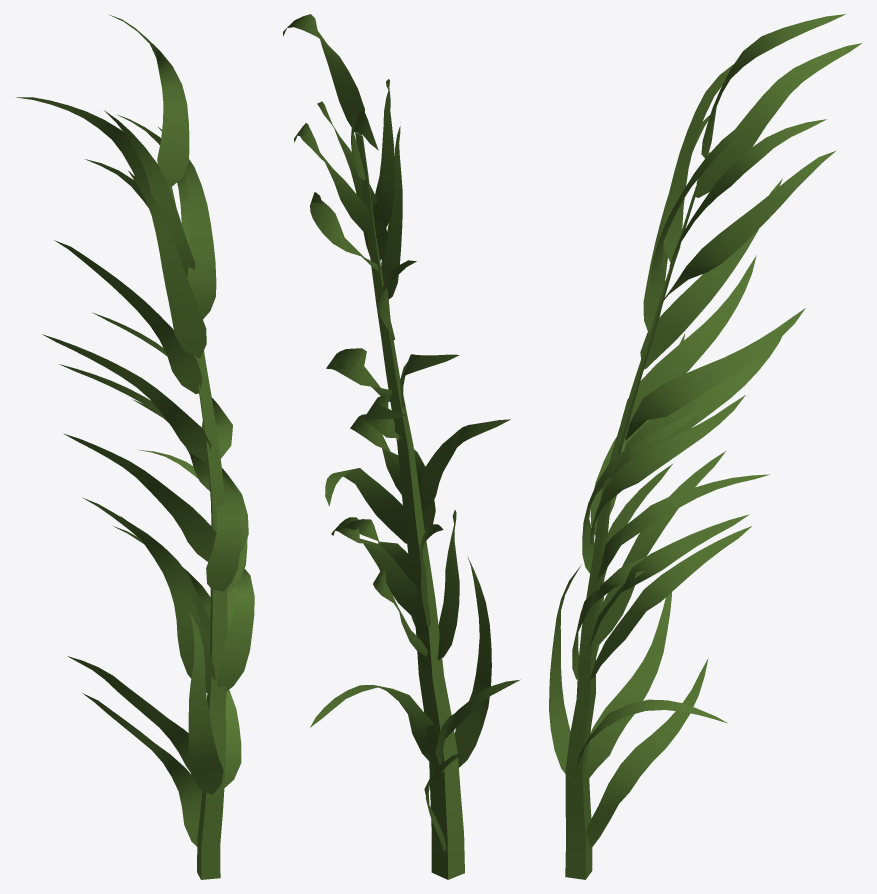
The model's file is plant_swamp_kelp_floor_bent_A.fbx.
The picture shows the model from 3 angles, left to right: view 1: azimuth 30°, elevation 25°; view 2: azimuth 150°, elevation 25°; view 3: azimuth 270°, elevation 25°; orthographic projection. The views are drawn at different scales.
Parts seen in each view (by area): view 1: plant_swamp_kelp_floor_bent_A; view 2: plant_swamp_kelp_floor_bent_A; view 3: plant_swamp_kelp_floor_bent_A.
Part boxes in pixels (x1=…): plant_swamp_kelp_floor_bent_A: x1=16, y1=14, x2=254, y2=879; plant_swamp_kelp_floor_bent_A: x1=283, y1=14, x2=520, y2=879; plant_swamp_kelp_floor_bent_A: x1=549, y1=14, x2=862, y2=879.
Size of the model in its own units: 61.97 by 285 by 93.11.
